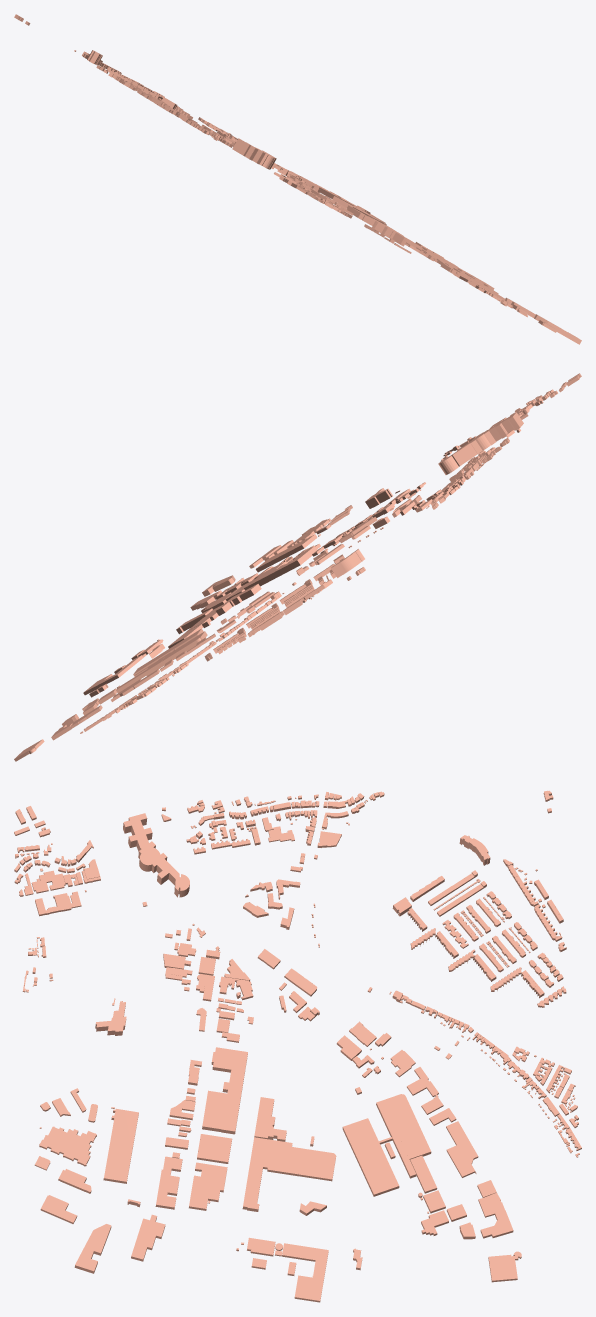
The picture shows the model from 3 angles, top to bottom: view 1: azimuth 30°, elevation 25°; view 2: azimuth 150°, elevation 25°; view 3: azimuth 270°, elevation 25°; orthographic projection. The views are drawn at different scales.
Size of the model in its own units: 1043 by 780 by 1259.
